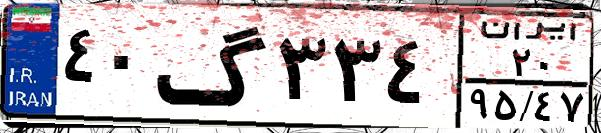0: (110, 28, 156, 98), (537, 27, 568, 80)
2: (508, 27, 537, 80)
3: (270, 28, 330, 110), (330, 28, 385, 110)
4: (385, 28, 445, 110), (57, 26, 110, 100), (535, 70, 560, 125)
5: (495, 70, 520, 125)
7: (560, 70, 590, 125)
9: (470, 70, 495, 125)
گ: (156, 12, 270, 120)
